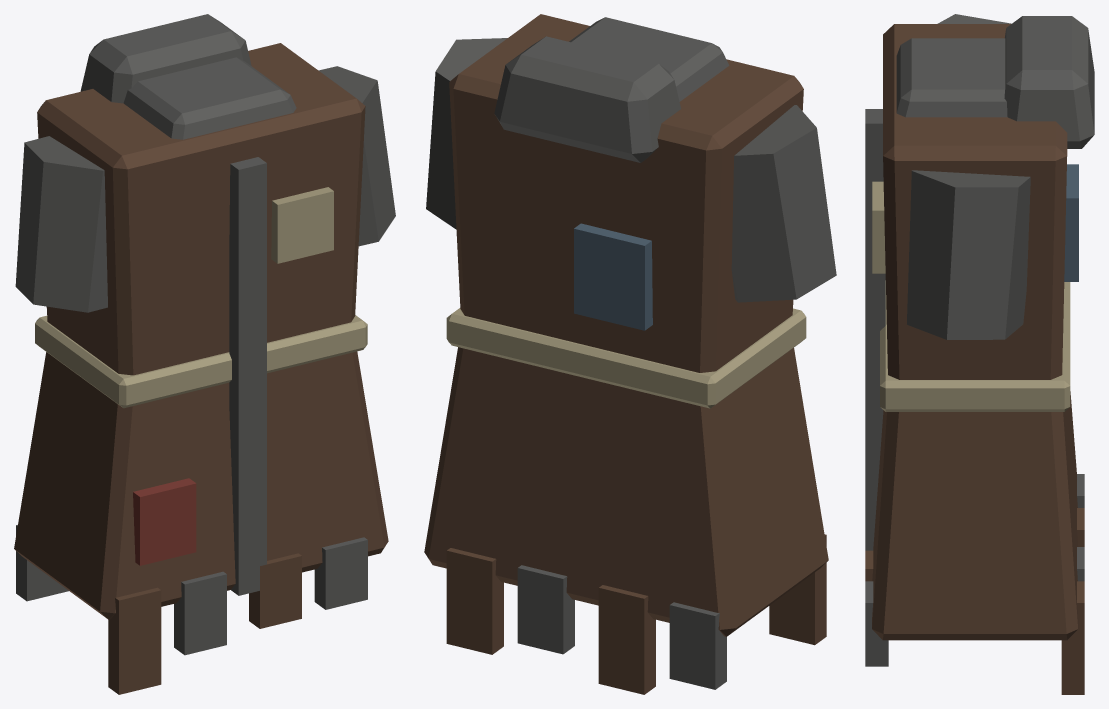
Rendered from item_rag_coat.glb.
The picture shows the model from 3 angles, left to right: view 1: azimuth 30°, elevation 25°; view 2: azimuth 150°, elevation 25°; view 3: azimuth 270°, elevation 25°; orthographic projection. The views are drawn at different scales.
Visible parts, largest first — view 1: rag_coat; view 2: rag_coat; view 3: rag_coat.
Part boxes in pixels (bbox=[...]): rag_coat: bbox=[14, 14, 395, 694]; rag_coat: bbox=[424, 14, 836, 694]; rag_coat: bbox=[865, 14, 1094, 694].
Size of the model in its own units: 0.7725 by 1.15 by 0.397.
